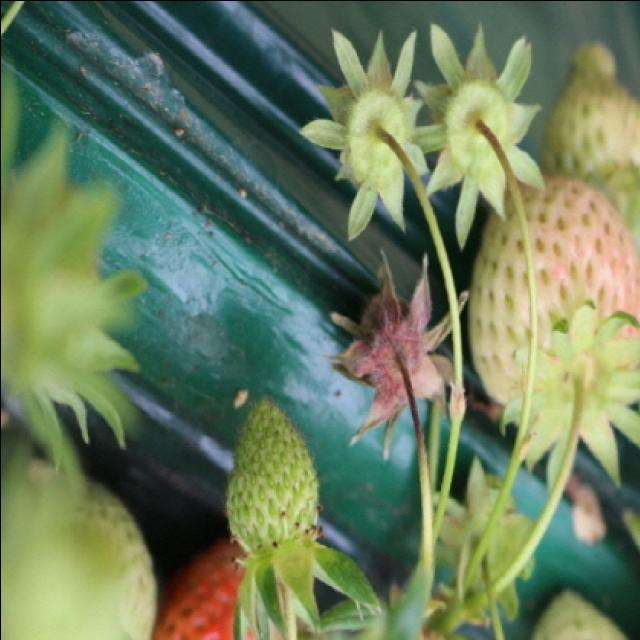Gray Mold: (323, 251, 471, 459)
